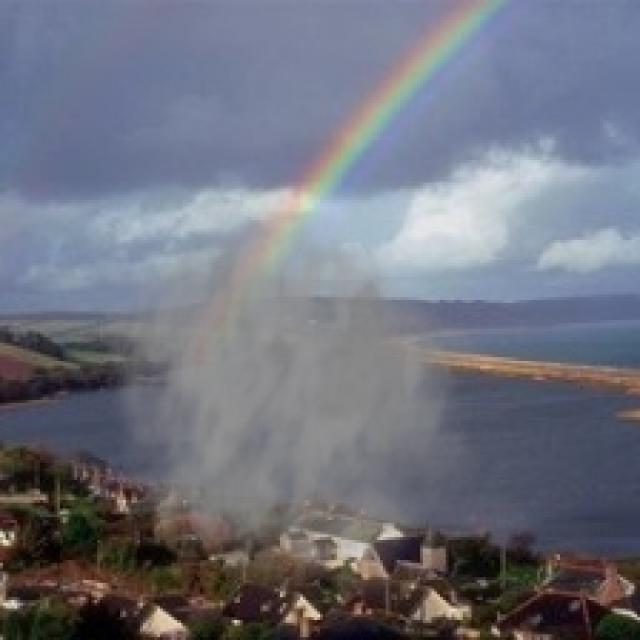smoke: (100, 206, 489, 623)
